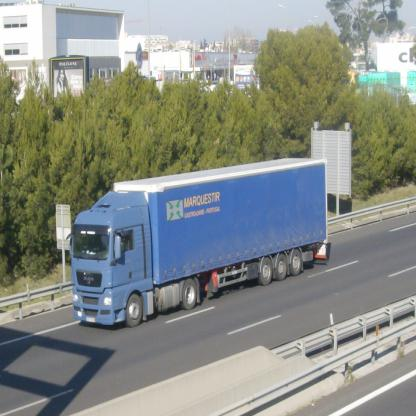Truck: (64, 162, 329, 326)
